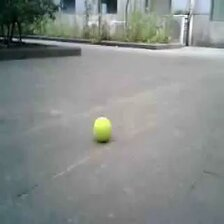tennis: (91, 117, 111, 141)
